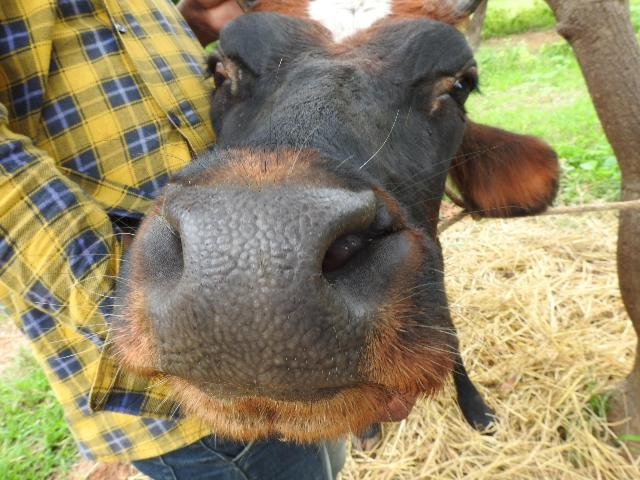Muzzle: (178, 186, 330, 386)
